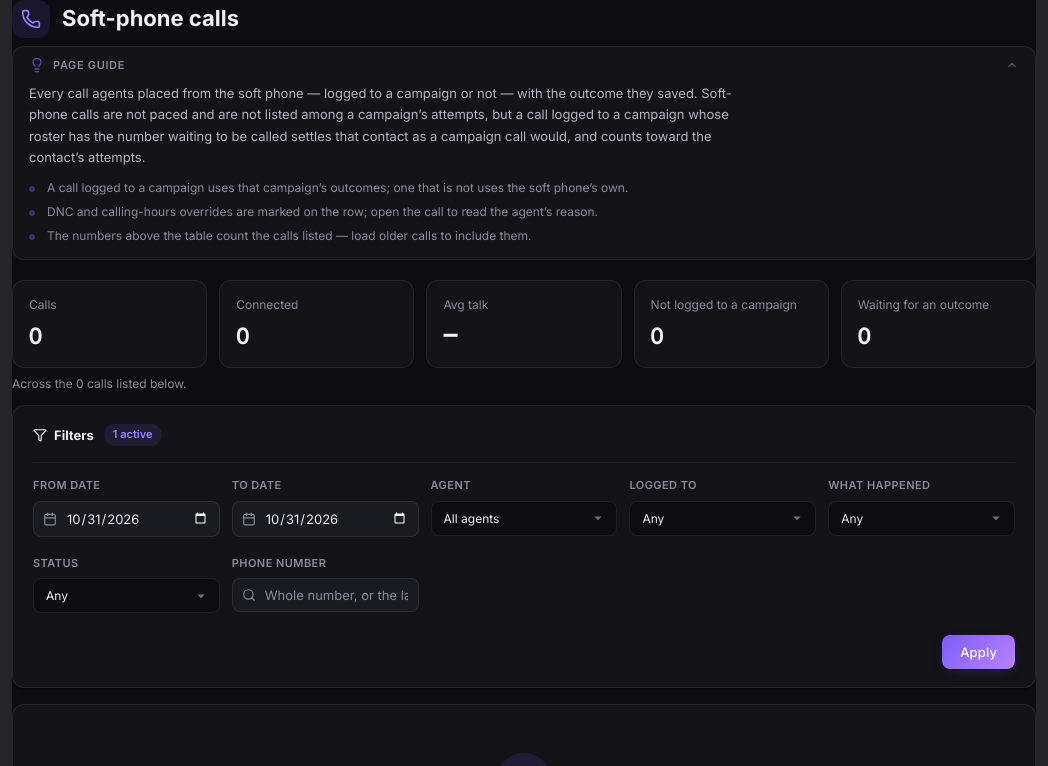
Test: Soft-phone calls (the account list) › says when nothing matches the filters, as a fact about the query
This screenshot has width=1048, height=766.
Select "Busy" in the dropdown with test id "filter-outcome" at x=922, y=518, box [828,500,1015,536]
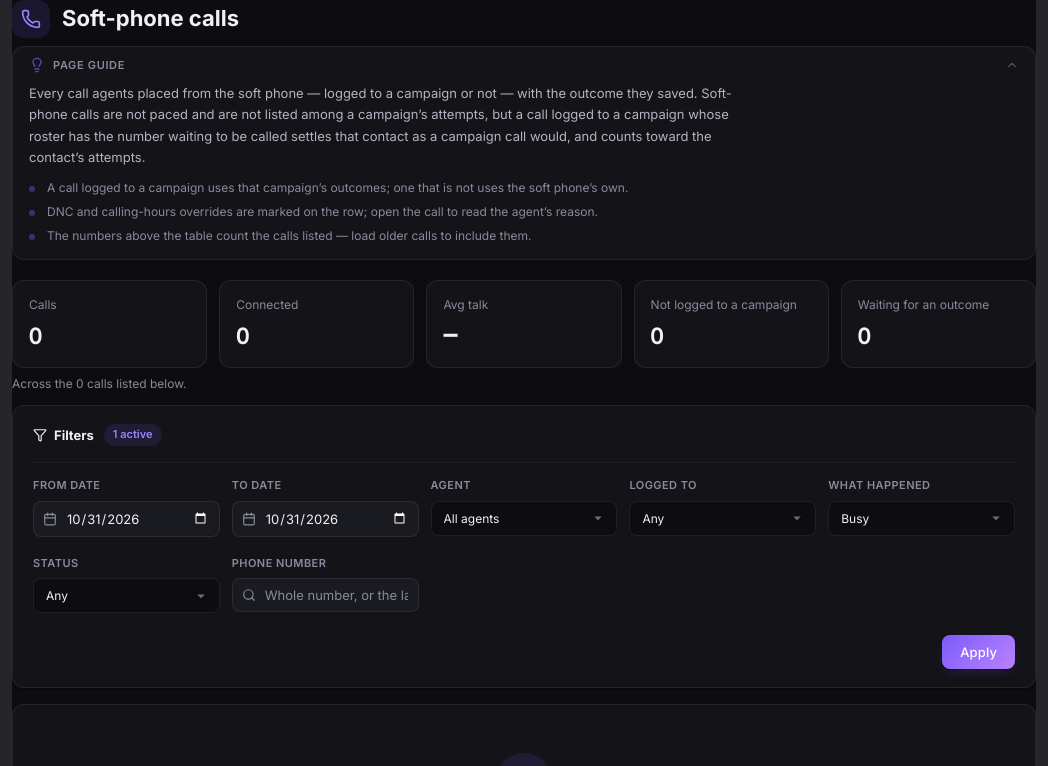
Click the button with test id "filter-apply".
click(979, 652)  # box [942,635,1015,669]
(page scrolled)
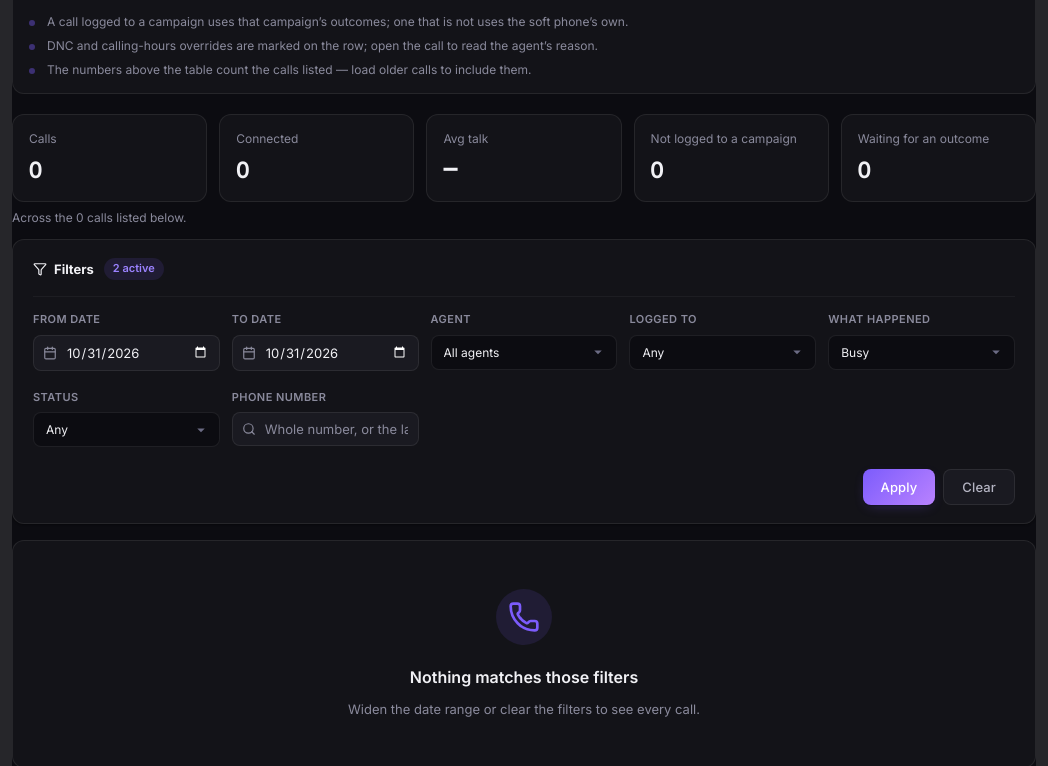
Now the heading "Nothing matches those filters" is shown, box [410,665,638,691]
